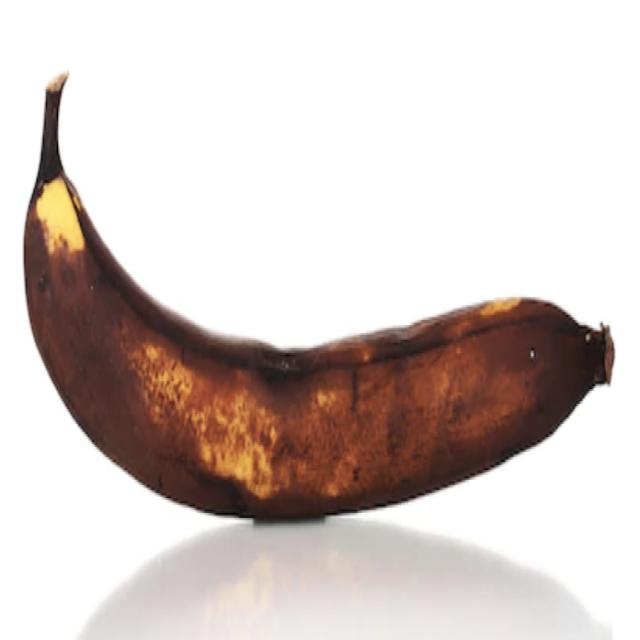Rotten: (20, 59, 622, 534)
